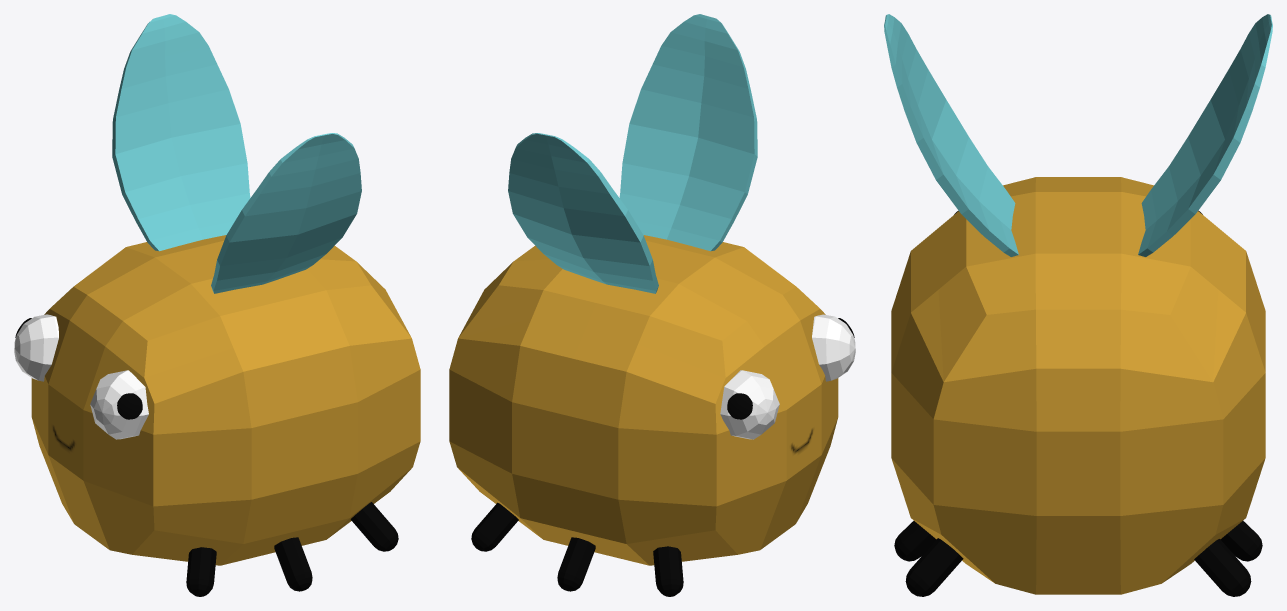
The model's file is bee.fbx.
3 renders of one model, left to right at view 1: azimuth 30°, elevation 25°; view 2: azimuth 150°, elevation 25°; view 3: azimuth 270°, elevation 25°, orthographic. The views are drawn at different scales.
Parts seen in each view (by area): view 1: Cube, Cube.001, Sphere, Sphere.001, Cylinder; view 2: Cube, Cube.001, Sphere, Sphere.001, Cylinder; view 3: Cube, Cube.001, Sphere.001.
Boxes of the visible parts, <box> form: Cube: <box>31,235,420,565</box>; Cube.001: <box>112,14,361,293</box>; Sphere: <box>14,314,148,439</box>; Sphere.001: <box>186,502,398,596</box>; Cylinder: <box>15,318,142,419</box>; Cube: <box>449,235,838,565</box>; Cube.001: <box>508,14,757,293</box>; Sphere: <box>720,314,855,439</box>; Sphere.001: <box>471,502,683,596</box>; Cylinder: <box>727,318,854,419</box>; Cube: <box>891,177,1265,594</box>; Cube.001: <box>884,14,1272,256</box>; Sphere.001: <box>894,521,1262,596</box>.
Size of the model in its own units: 229 by 311 by 200.
4 materials, 4 textured.
